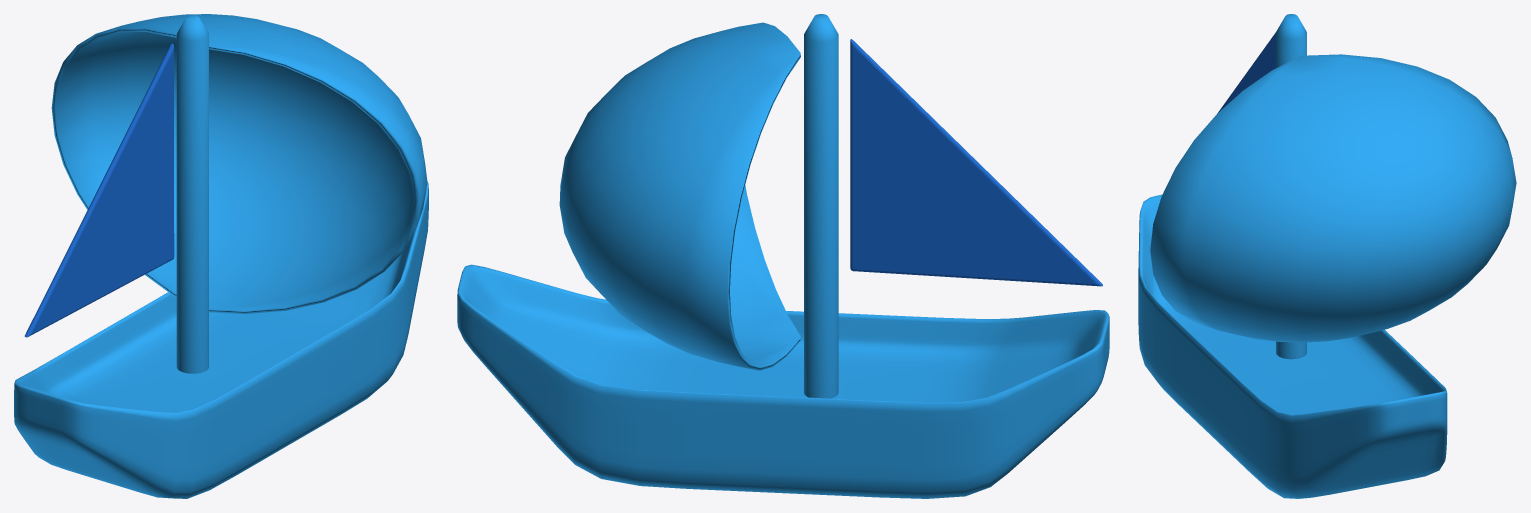
Rendered from WEB3_BIGISLAND_BOAT.gltf.
3 renders of one model, left to right at view 1: azimuth 30°, elevation 25°; view 2: azimuth 150°, elevation 25°; view 3: azimuth 270°, elevation 25°, orthographic. The views are drawn at different scales.
Visible parts, largest first — view 1: BOAT; view 2: BOAT; view 3: BOAT.
Part boxes in pixels (x1,y1,x2,y2): BOAT: [14, 14, 428, 498]; BOAT: [457, 14, 1109, 498]; BOAT: [1138, 14, 1516, 498].
Bounding box in the file's own units: 2.57 × 2.04 × 1.75.
